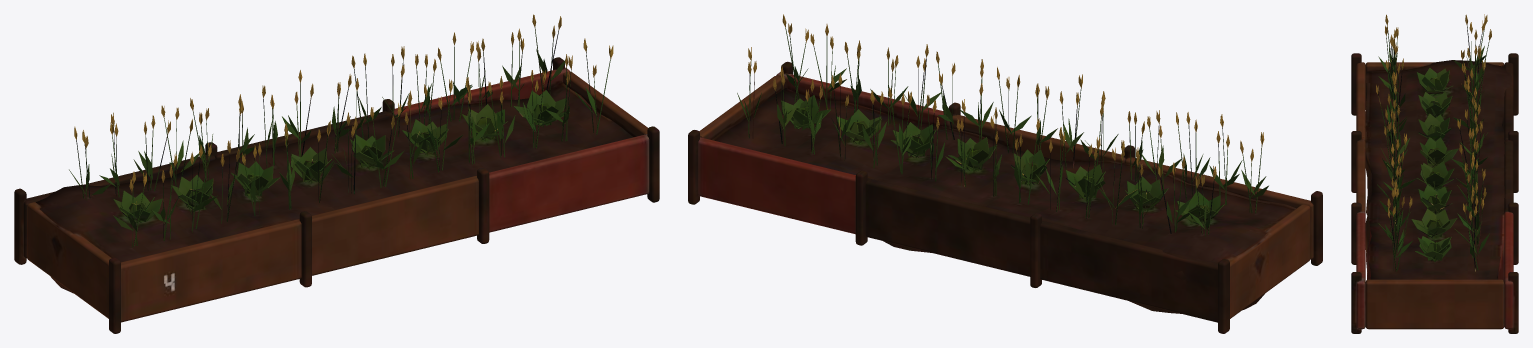
Rendered from crop_bed.glb.
3 views of the same model, side by side, from view 1: azimuth 30°, elevation 25°; view 2: azimuth 150°, elevation 25°; view 3: azimuth 270°, elevation 25° (orthographic). The views are drawn at different scales.
Visible parts, largest first — view 1: crop_bed; view 2: crop_bed; view 3: crop_bed.
Boxes of the visible parts, x1,y1,x2,y2 form: crop_bed: (14,14,659,333); crop_bed: (688,14,1322,333); crop_bed: (1351,14,1518,333).
Bounding box in the file's own units: 4.03 × 1.06 × 1.28.
1 material, 1 textured.
